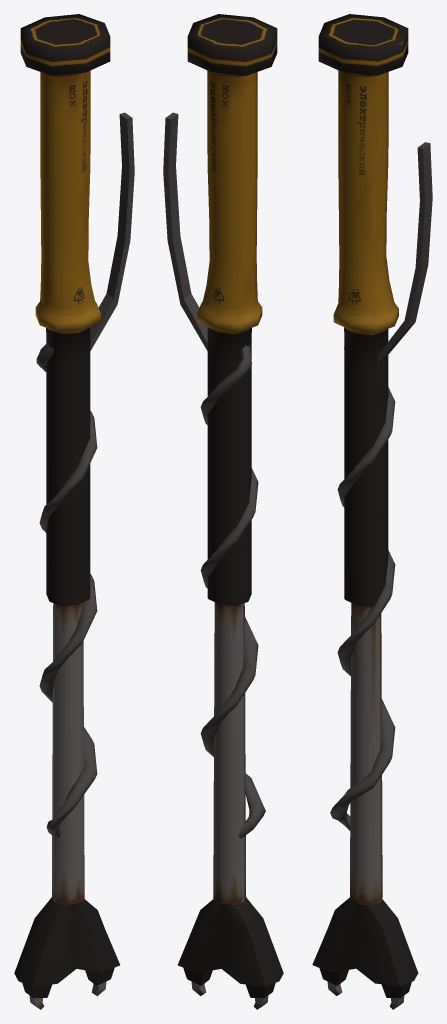
Rendered from ElectricProd2.fbx.
3 renders of one model, left to right at view 1: azimuth 30°, elevation 25°; view 2: azimuth 150°, elevation 25°; view 3: azimuth 330°, elevation 25°, orthographic.
Parts seen in each view (by area): view 1: Handle2, ProdEnd2, SpiralWire, Lever, ProdTip1, ProdTip2; view 2: Handle2, ProdEnd2, SpiralWire, Lever, ProdTip1, ProdTip2; view 3: Handle2, ProdEnd2, SpiralWire, Lever, ProdTip2, ProdTip1.
Boxes of the visible parts, left/top/right/bottom form: Handle2: left=20, top=14, right=110, bottom=904; ProdEnd2: left=14, top=897, right=119, bottom=986; SpiralWire: left=36, top=342, right=97, bottom=838; Lever: left=90, top=112, right=134, bottom=350; ProdTip1: left=22, top=983, right=52, bottom=1009; ProdTip2: left=85, top=968, right=114, bottom=995; Handle2: left=187, top=14, right=277, bottom=904; ProdEnd2: left=178, top=897, right=283, bottom=986; SpiralWire: left=200, top=344, right=265, bottom=838; Lever: left=163, top=112, right=207, bottom=350; ProdTip1: left=245, top=983, right=275, bottom=1009; ProdTip2: left=183, top=968, right=212, bottom=995; Handle2: left=318, top=14, right=408, bottom=905; ProdEnd2: left=312, top=897, right=418, bottom=986; SpiralWire: left=330, top=348, right=395, bottom=830; Lever: left=378, top=142, right=432, bottom=362; ProdTip2: left=381, top=982, right=411, bottom=1009; ProdTip1: left=319, top=968, right=348, bottom=995.
Size of the model in its own units: 8.37 by 69.04 by 5.34.
